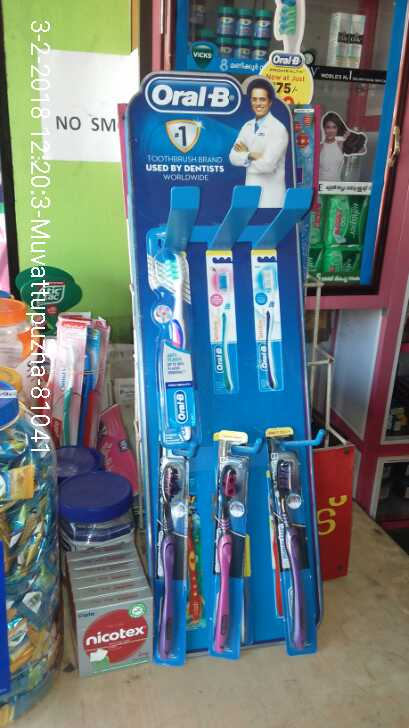oralb: (272, 443, 330, 658), (155, 253, 208, 438), (208, 438, 249, 652), (157, 455, 188, 657)
